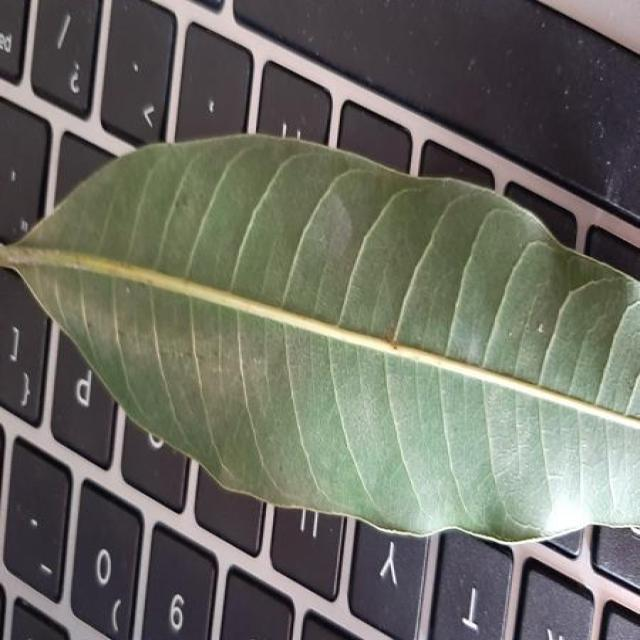mango: (2, 135, 638, 542)
sooty mould: (10, 136, 638, 541)
